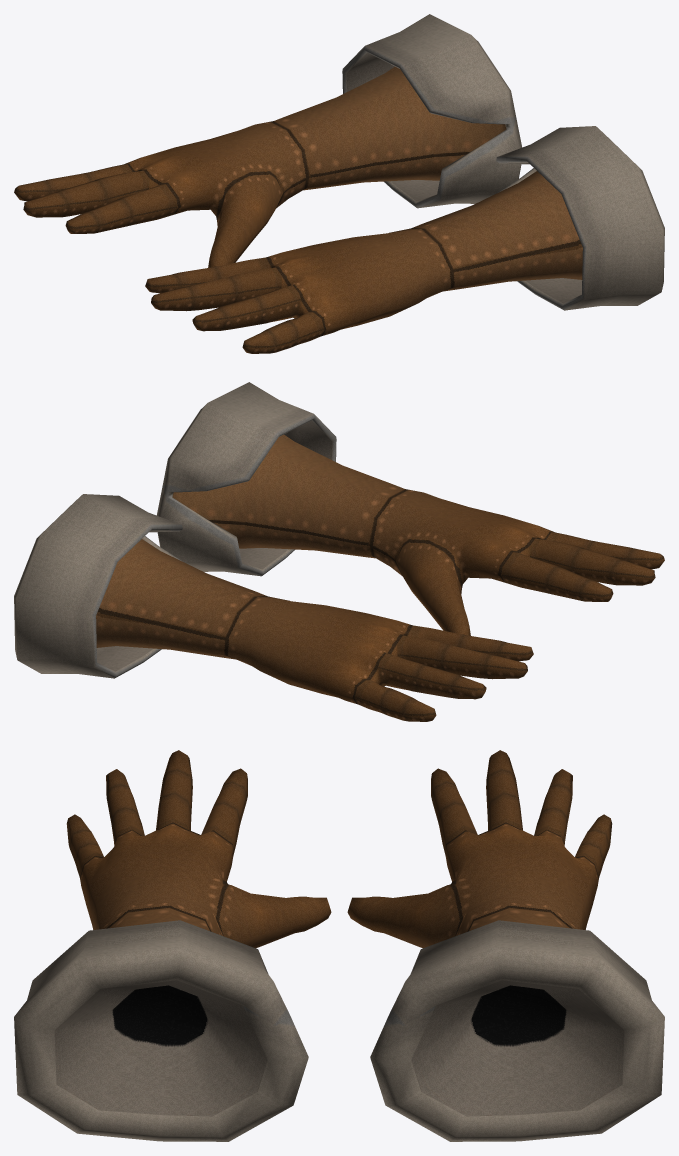
The model's file is basic_gloves.glb.
3 views of the same model, one above another, from view 1: azimuth 30°, elevation 25°; view 2: azimuth 150°, elevation 25°; view 3: azimuth 270°, elevation 25° (orthographic). The views are drawn at different scales.
Parts seen in each view (by area): view 1: Hand; view 2: Hand; view 3: Hand.
Part boxes in pixels (x1,y1,x2,y2): Hand: (14, 14, 664, 353); Hand: (14, 382, 664, 721); Hand: (14, 750, 664, 1141).
Bounding box in the file's own units: 0.2718 × 0.0889 × 0.2677.
1 material, 1 textured.
